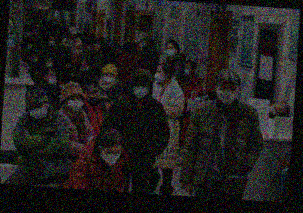mask_weared_incorrect: (78, 61, 89, 72)
with_mask: (214, 84, 239, 106), (99, 147, 121, 167), (131, 82, 151, 100), (26, 103, 47, 120), (66, 94, 83, 113), (86, 93, 101, 108), (268, 102, 280, 120), (102, 71, 115, 85), (153, 69, 165, 84), (46, 72, 57, 86), (163, 45, 174, 58), (46, 36, 56, 47), (183, 64, 190, 79), (137, 39, 146, 49), (45, 58, 53, 68), (30, 51, 36, 64), (94, 41, 101, 52), (63, 52, 71, 60), (24, 42, 31, 51), (70, 32, 76, 40)
